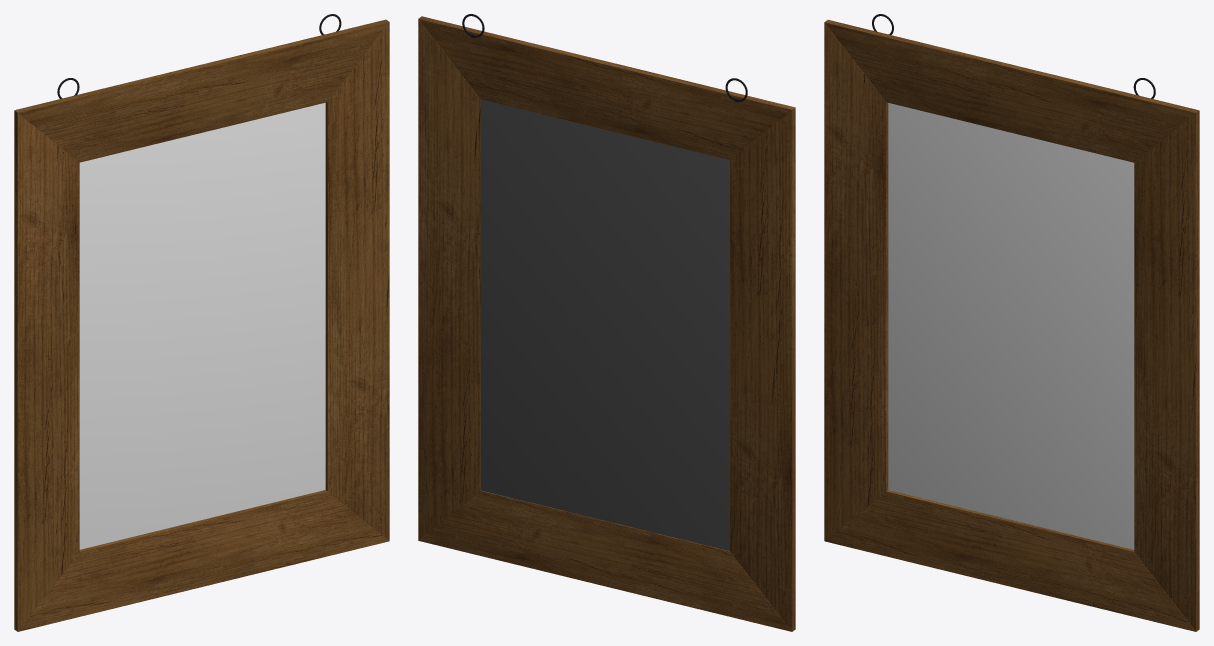
3 views of the same model, side by side, from view 1: azimuth 30°, elevation 25°; view 2: azimuth 150°, elevation 25°; view 3: azimuth 330°, elevation 25° (orthographic).
Parts seen in each view (by area): view 1: Specchio_in_legno_di_recupero; view 2: Specchio_in_legno_di_recupero; view 3: Specchio_in_legno_di_recupero.
Boxes of the visible parts, x1,y1,x2,y2 form: Specchio_in_legno_di_recupero: [14, 14, 389, 631]; Specchio_in_legno_di_recupero: [418, 14, 795, 631]; Specchio_in_legno_di_recupero: [824, 14, 1199, 631].
Size of the model in its own units: 0.9 by 1.24 by 0.019.
4 materials, 1 textured.
